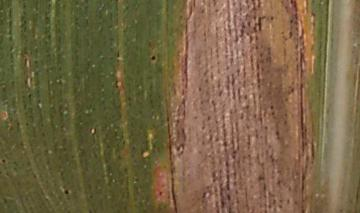tarspot: (147, 51, 159, 66), (61, 186, 73, 198), (1, 155, 9, 168)
